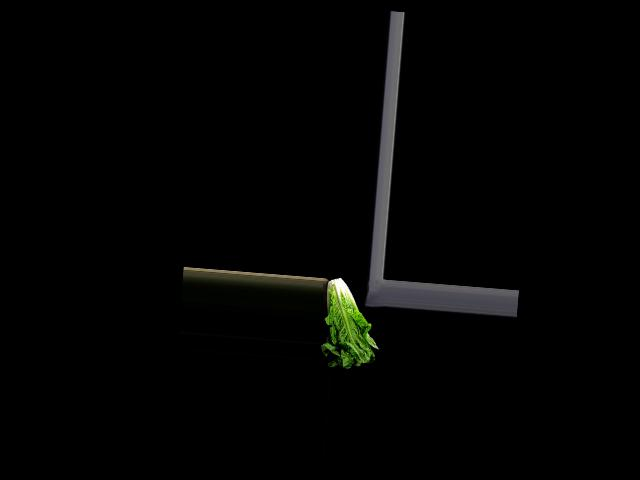lettuce: (318, 275, 383, 372)
